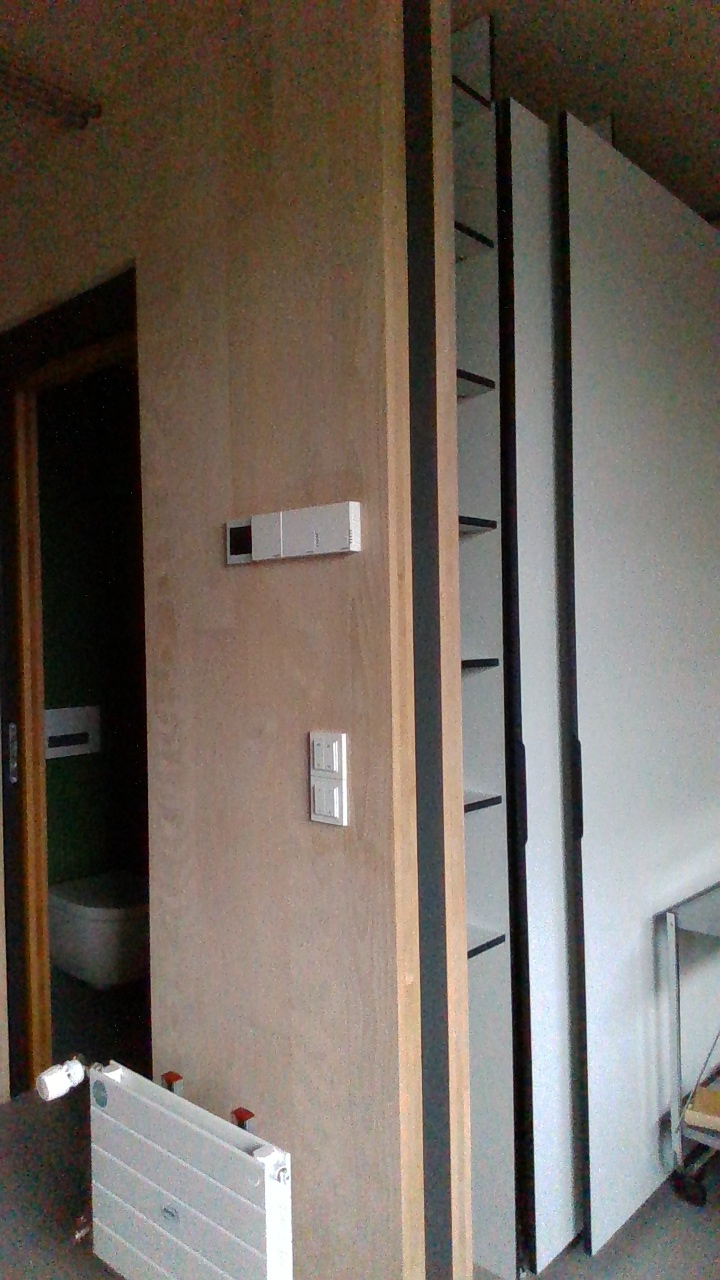Knob_Radiator: (32, 1052, 86, 1103)
Light_Switch: (311, 773, 343, 822), (308, 732, 342, 773)
Radiator: (89, 1052, 298, 1278)
